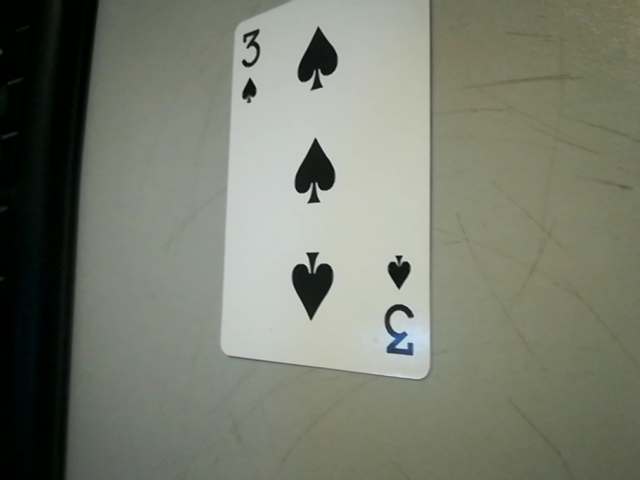ht 3: (371, 245, 430, 369)
